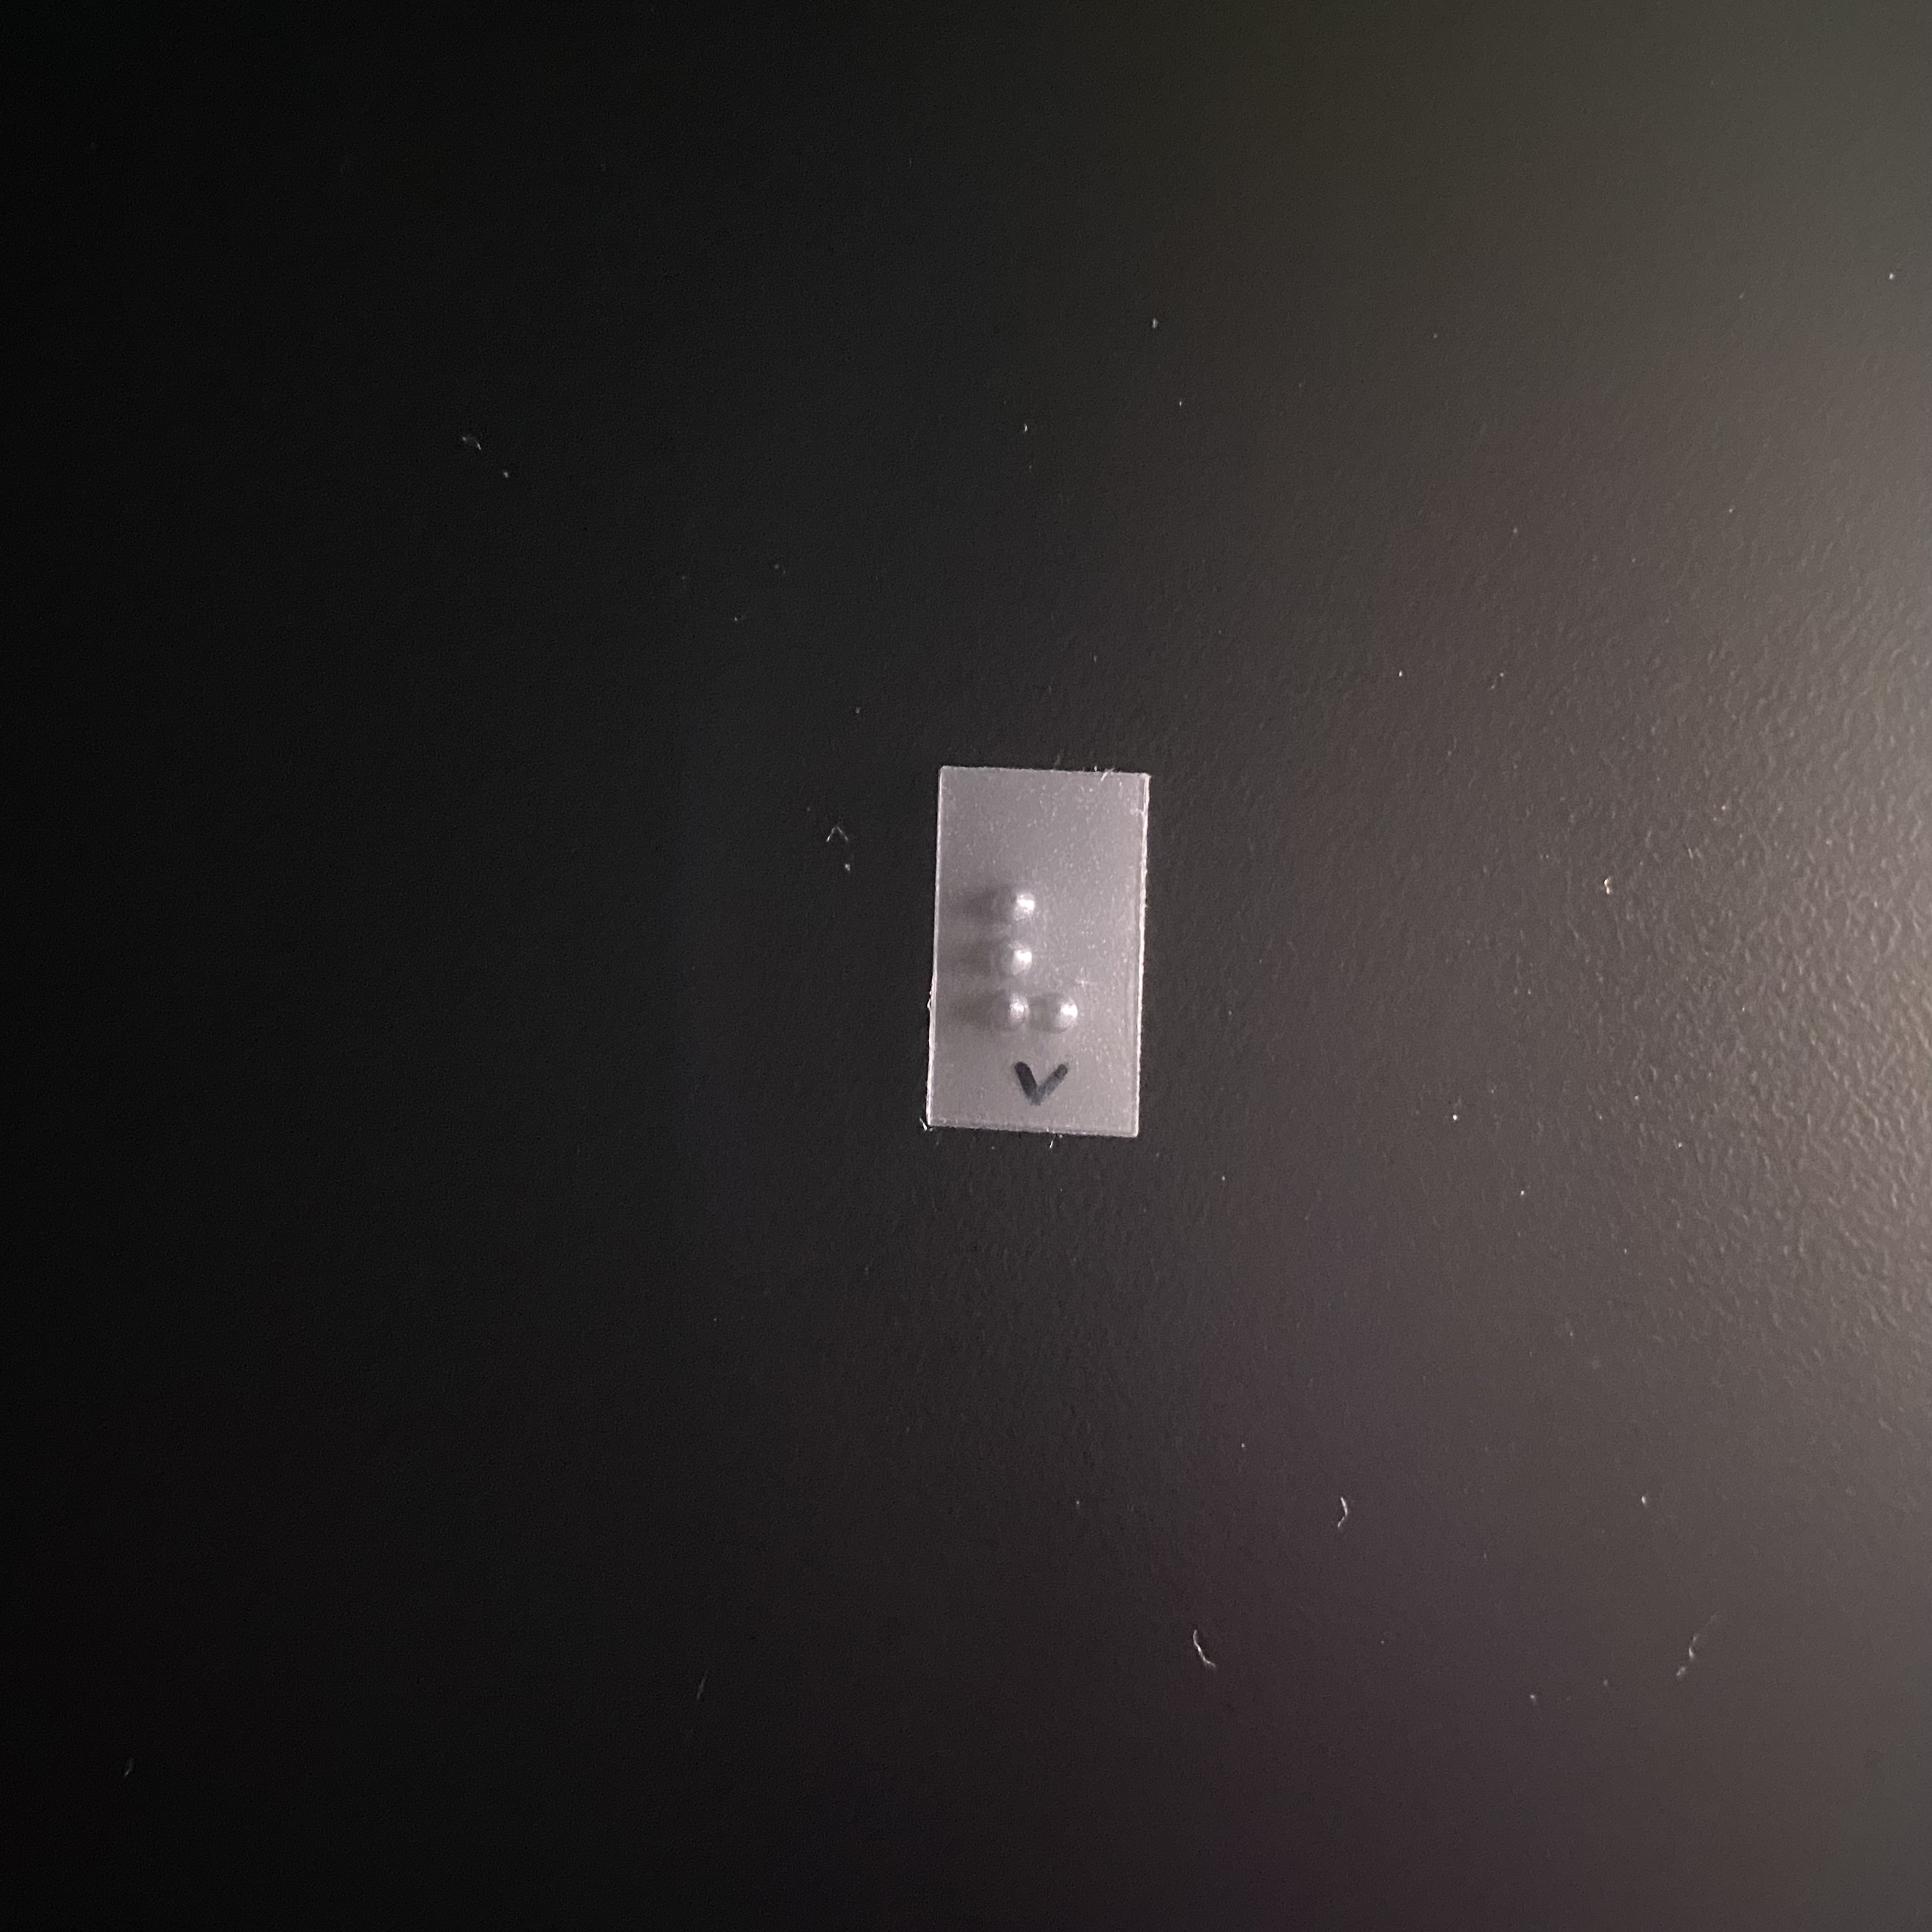v: (959, 879, 1095, 1033)
